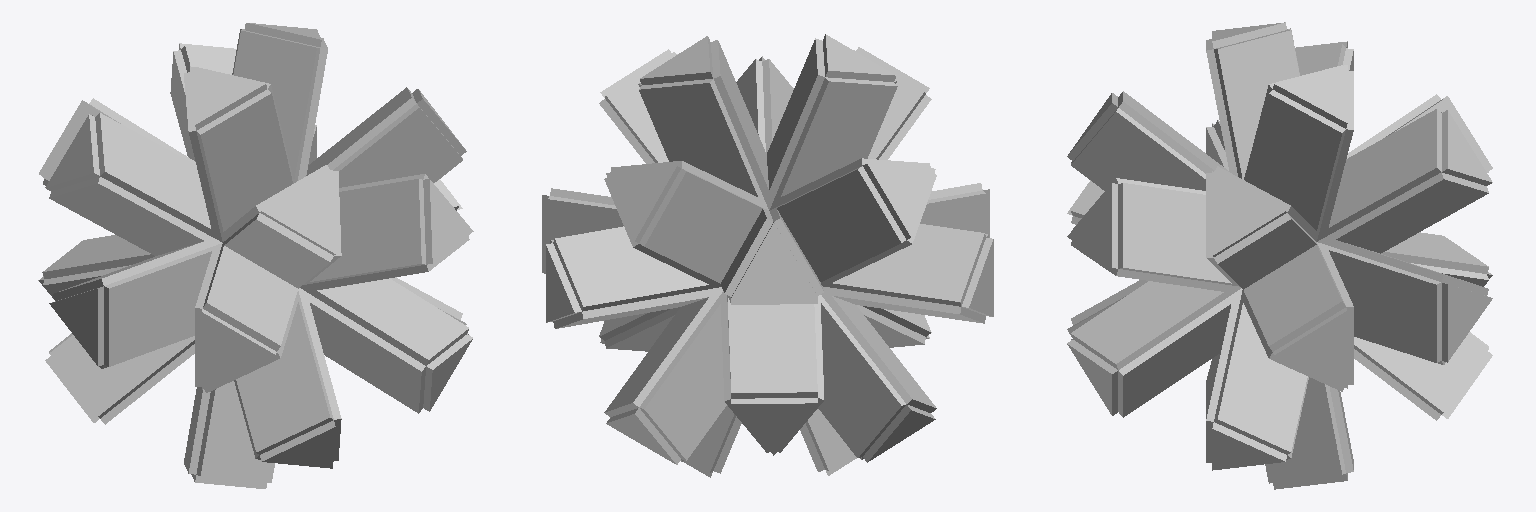
Rendered from Spikey.obj.
3 views of the same model, side by side, from view 1: azimuth 30°, elevation 25°; view 2: azimuth 150°, elevation 25°; view 3: azimuth 270°, elevation 25° (orthographic).
Parts seen in each view (by area): view 1: Sphere; view 2: Sphere; view 3: Sphere.
Part boxes in pixels (x1,y1,x2,y2): Sphere: (38, 23, 473, 488); Sphere: (542, 34, 993, 477); Sphere: (1067, 22, 1492, 489).
Bounding box in the file's own units: 5.72 × 5.44 × 5.18.